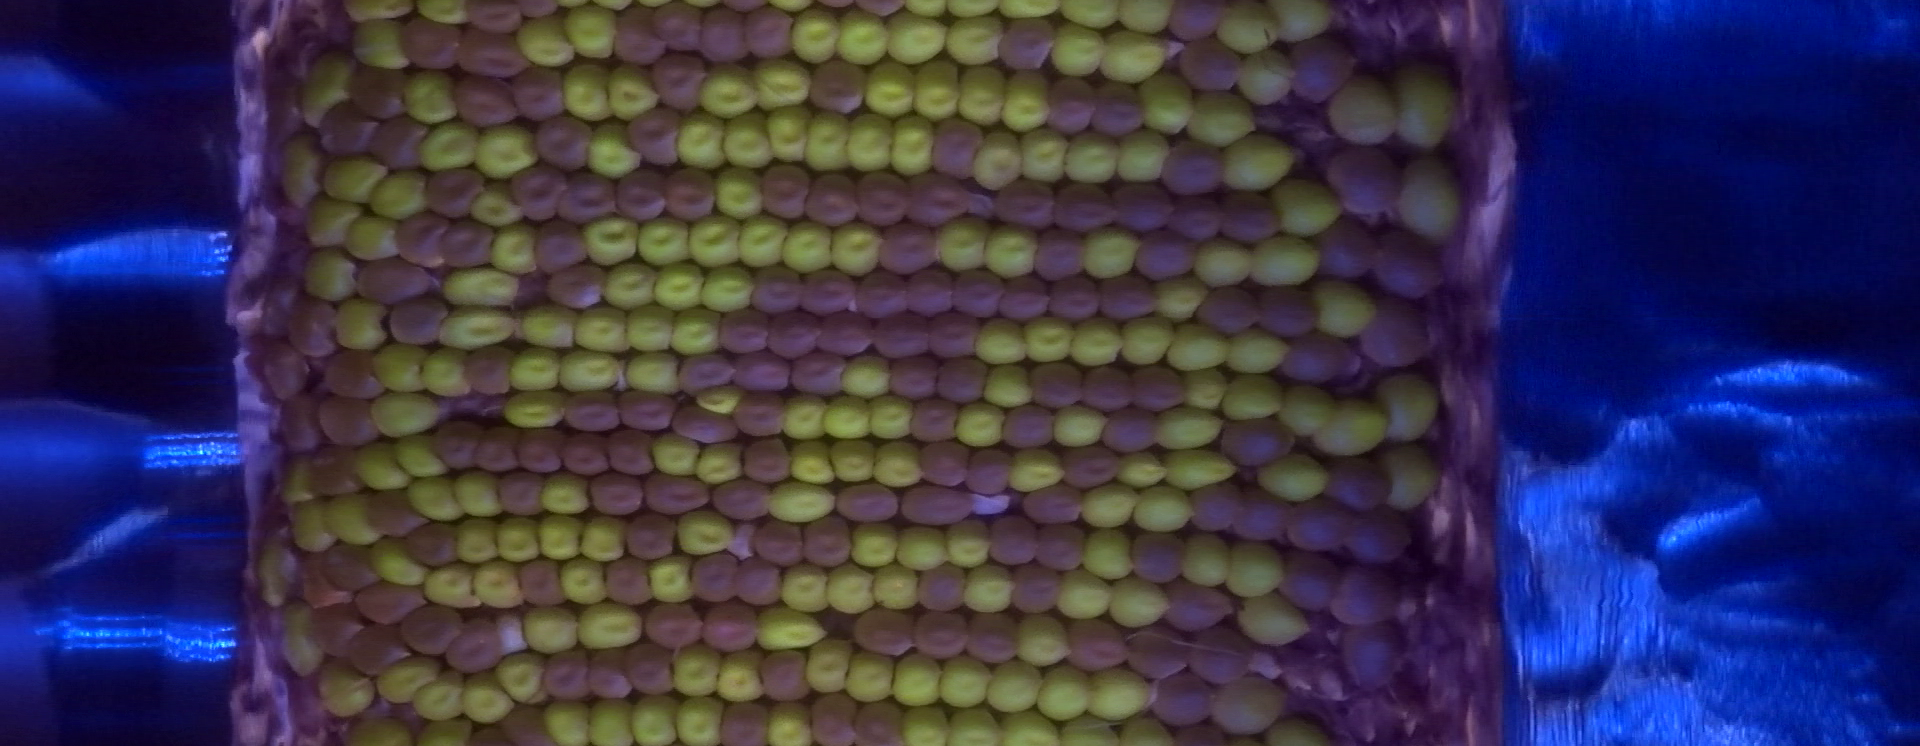fluorescent: (1395, 154, 1467, 252), (1325, 69, 1404, 149), (1396, 59, 1461, 156), (1270, 176, 1353, 243), (1374, 367, 1442, 443), (1308, 396, 1389, 459), (1231, 588, 1321, 644), (1307, 274, 1381, 342), (1183, 89, 1261, 152), (1213, 670, 1289, 734), (1222, 131, 1294, 196), (301, 47, 358, 127), (1251, 450, 1335, 503), (328, 295, 396, 361), (696, 59, 767, 121), (1082, 661, 1155, 723), (1095, 27, 1168, 87), (746, 51, 819, 111), (719, 107, 787, 170), (1231, 49, 1300, 111), (751, 603, 833, 655), (1247, 234, 1325, 289), (373, 650, 444, 710), (369, 336, 433, 401), (473, 122, 542, 183), (576, 211, 645, 271), (1103, 576, 1180, 630), (932, 211, 996, 276), (320, 489, 387, 550), (1382, 443, 1442, 512), (1220, 538, 1289, 597), (1076, 220, 1142, 282), (1051, 563, 1118, 624), (561, 58, 620, 126), (1221, 325, 1296, 379), (365, 386, 444, 436), (1276, 379, 1340, 441), (823, 218, 889, 278), (842, 110, 901, 178), (804, 104, 858, 178), (1131, 480, 1200, 538), (1153, 402, 1228, 454), (909, 58, 965, 127), (320, 153, 396, 205), (1194, 232, 1256, 294), (882, 10, 948, 69), (513, 13, 579, 72), (365, 530, 431, 589), (437, 265, 523, 310), (1113, 310, 1180, 367), (435, 306, 518, 353), (1160, 450, 1243, 496), (1002, 65, 1054, 138), (516, 300, 587, 354), (863, 59, 924, 121), (684, 209, 747, 271), (1019, 121, 1075, 189), (1213, 1, 1282, 56), (955, 61, 1010, 130), (822, 563, 890, 619), (577, 601, 645, 657), (1217, 369, 1287, 423), (513, 603, 583, 657), (835, 7, 896, 69), (1011, 610, 1074, 670), (317, 657, 380, 717), (1140, 73, 1199, 137), (1174, 526, 1232, 590), (977, 224, 1044, 279), (888, 111, 942, 180), (764, 477, 838, 527), (585, 122, 647, 183), (958, 557, 1019, 617), (732, 216, 795, 274), (348, 18, 415, 72), (696, 262, 763, 316), (369, 167, 431, 224), (778, 559, 840, 616), (1047, 23, 1111, 80), (678, 111, 735, 175), (1161, 325, 1236, 372), (415, 122, 481, 176), (280, 126, 324, 207), (1060, 314, 1127, 367), (1076, 526, 1138, 583), (351, 436, 414, 492), (342, 209, 405, 265), (555, 345, 624, 396), (1064, 127, 1122, 187), (624, 688, 684, 746), (301, 246, 358, 307), (973, 131, 1029, 194), (1033, 658, 1089, 720), (609, 62, 662, 126), (675, 505, 738, 559), (1149, 276, 1218, 325), (782, 214, 835, 279), (767, 104, 818, 170), (305, 192, 364, 250), (563, 2, 620, 62), (405, 66, 462, 126), (531, 510, 591, 566), (634, 214, 696, 269), (599, 258, 660, 314), (420, 562, 484, 615), (405, 477, 470, 528), (277, 606, 324, 676), (943, 16, 1009, 66), (1020, 309, 1078, 366), (1116, 127, 1172, 186), (492, 650, 549, 709), (418, 345, 473, 405), (825, 437, 885, 492), (873, 435, 928, 495), (888, 646, 943, 706), (487, 219, 540, 282), (775, 391, 838, 443), (621, 348, 684, 399), (571, 305, 636, 355), (840, 646, 898, 702), (670, 690, 729, 745), (789, 9, 842, 69), (936, 653, 996, 707), (835, 349, 896, 402), (500, 387, 571, 432), (845, 517, 902, 572), (558, 554, 617, 608), (287, 496, 339, 556), (989, 657, 1042, 717), (940, 699, 1008, 746), (667, 306, 725, 360), (868, 559, 926, 612), (394, 432, 453, 485), (651, 261, 711, 312), (1051, 403, 1112, 453), (1005, 450, 1068, 499), (804, 632, 853, 695), (1271, 1, 1338, 47), (670, 644, 725, 699), (504, 342, 562, 394), (623, 301, 682, 353), (970, 314, 1029, 365), (953, 398, 1011, 450), (647, 430, 705, 481), (258, 535, 296, 615), (782, 439, 842, 489), (891, 526, 951, 576), (1078, 480, 1140, 528), (718, 165, 771, 220), (942, 514, 996, 570), (647, 552, 700, 608), (471, 559, 527, 612), (822, 391, 878, 443), (977, 356, 1035, 408), (411, 669, 470, 719), (989, 710, 1071, 746), (864, 391, 920, 442), (460, 675, 516, 726), (539, 470, 595, 521), (467, 180, 525, 228), (693, 436, 748, 486), (576, 516, 631, 566), (711, 650, 768, 699), (451, 516, 504, 566), (495, 513, 547, 563), (456, 467, 504, 521), (587, 693, 636, 746), (1178, 366, 1232, 413), (1113, 448, 1174, 489), (273, 454, 323, 503), (542, 695, 590, 746), (1109, 1, 1176, 38), (767, 699, 814, 746), (1264, 713, 1330, 746), (1058, 712, 1120, 746), (411, 715, 480, 746), (1056, 1, 1124, 31), (898, 704, 945, 746), (340, 1, 421, 26), (694, 380, 747, 416), (1113, 714, 1173, 746), (414, 1, 474, 29), (355, 714, 407, 746), (999, 1, 1067, 23), (900, 1, 954, 24), (947, 1, 1007, 22)
nonfluorescent: (1359, 294, 1431, 366), (1371, 227, 1440, 296), (1337, 625, 1404, 695), (1331, 146, 1400, 209), (1289, 38, 1353, 102), (453, 23, 527, 76), (1327, 454, 1389, 514), (257, 341, 315, 403), (1167, 579, 1236, 631), (396, 604, 465, 654), (927, 118, 984, 178), (1191, 628, 1254, 684), (1330, 570, 1393, 624), (1179, 40, 1244, 93), (456, 75, 520, 127), (400, 17, 467, 69), (1222, 416, 1297, 462), (1282, 554, 1341, 610), (876, 220, 936, 274), (1289, 495, 1349, 549), (1319, 216, 1371, 277), (1150, 674, 1212, 725), (343, 69, 408, 118), (534, 111, 591, 167), (366, 111, 425, 165), (316, 104, 376, 157), (1065, 616, 1125, 669), (1160, 141, 1221, 192), (1229, 490, 1291, 540), (530, 219, 585, 274), (320, 393, 375, 448), (624, 109, 681, 163), (556, 173, 613, 225), (1259, 284, 1318, 336), (969, 608, 1019, 668), (997, 15, 1051, 70), (651, 50, 707, 104), (759, 162, 808, 222), (320, 543, 381, 590), (1343, 512, 1403, 560), (340, 626, 405, 670), (364, 490, 425, 537), (613, 7, 665, 62), (394, 214, 449, 266), (1033, 227, 1089, 278), (1196, 285, 1259, 331), (310, 605, 366, 655), (500, 696, 556, 746), (760, 648, 809, 706), (350, 582, 424, 620), (447, 620, 500, 673), (1100, 403, 1153, 454), (986, 512, 1036, 567), (808, 62, 864, 111), (856, 169, 905, 225), (276, 394, 324, 451), (1060, 441, 1117, 490), (907, 176, 965, 224), (1128, 630, 1191, 673), (697, 9, 747, 62), (580, 646, 631, 699), (1284, 337, 1346, 381), (1089, 83, 1145, 131), (511, 167, 558, 223), (996, 180, 1052, 228), (626, 637, 673, 693), (1056, 184, 1113, 230), (905, 483, 971, 523), (804, 174, 856, 225), (664, 171, 714, 224), (604, 552, 653, 606), (703, 603, 759, 649), (1136, 234, 1195, 278), (355, 262, 433, 295), (642, 472, 708, 511), (1010, 563, 1064, 611), (850, 610, 913, 650), (388, 298, 444, 343), (491, 472, 547, 517), (323, 350, 381, 394), (1187, 481, 1237, 532), (1100, 274, 1158, 317), (808, 692, 857, 744), (1046, 77, 1093, 130), (691, 548, 737, 601), (1217, 194, 1278, 234), (1133, 532, 1183, 581), (471, 424, 523, 472), (756, 517, 803, 568), (517, 560, 568, 608), (511, 72, 564, 118), (1117, 183, 1171, 228), (1048, 277, 1103, 321), (290, 298, 334, 353), (670, 405, 736, 442), (871, 317, 931, 358), (711, 480, 771, 521), (744, 11, 792, 61), (1033, 523, 1084, 571), (733, 554, 781, 604), (459, 347, 512, 392), (950, 273, 1004, 317), (589, 472, 643, 516), (816, 314, 871, 356), (793, 352, 847, 394), (936, 355, 989, 398), (904, 397, 958, 440), (653, 4, 702, 50), (962, 447, 1011, 494), (838, 483, 898, 521), (442, 220, 493, 265), (1031, 363, 1082, 407), (464, 1, 525, 38), (918, 440, 972, 481), (800, 523, 849, 568), (917, 563, 962, 612), (918, 612, 967, 658), (1131, 365, 1182, 409), (542, 650, 587, 701), (615, 178, 666, 220), (1022, 483, 1080, 521), (429, 171, 482, 212), (433, 419, 480, 465), (857, 271, 906, 315), (643, 608, 705, 642), (721, 702, 773, 744), (998, 408, 1051, 448), (400, 523, 453, 563), (558, 431, 604, 478), (604, 430, 653, 473), (1167, 2, 1222, 40), (677, 355, 732, 393), (549, 267, 600, 307), (928, 314, 980, 354), (754, 269, 801, 314), (1171, 196, 1218, 239), (889, 354, 938, 396), (564, 391, 616, 430), (742, 439, 789, 481), (801, 273, 853, 310), (719, 311, 763, 354), (517, 428, 562, 469), (733, 394, 782, 432), (626, 514, 670, 556), (620, 391, 672, 425), (1000, 277, 1044, 317), (733, 354, 786, 387), (911, 269, 951, 312), (860, 703, 904, 742), (1171, 717, 1229, 746), (770, 314, 816, 352), (1085, 371, 1131, 408), (465, 720, 501, 746)
